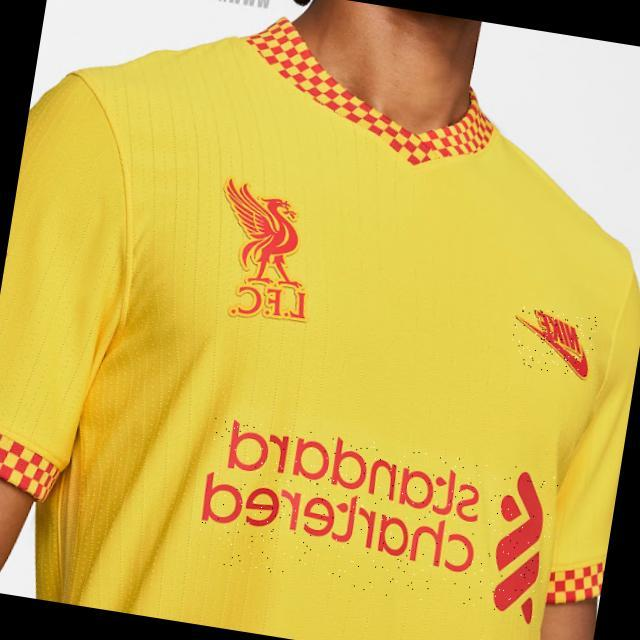Nike: (508, 305, 598, 378)
Standard Chartered: (191, 417, 560, 620)
